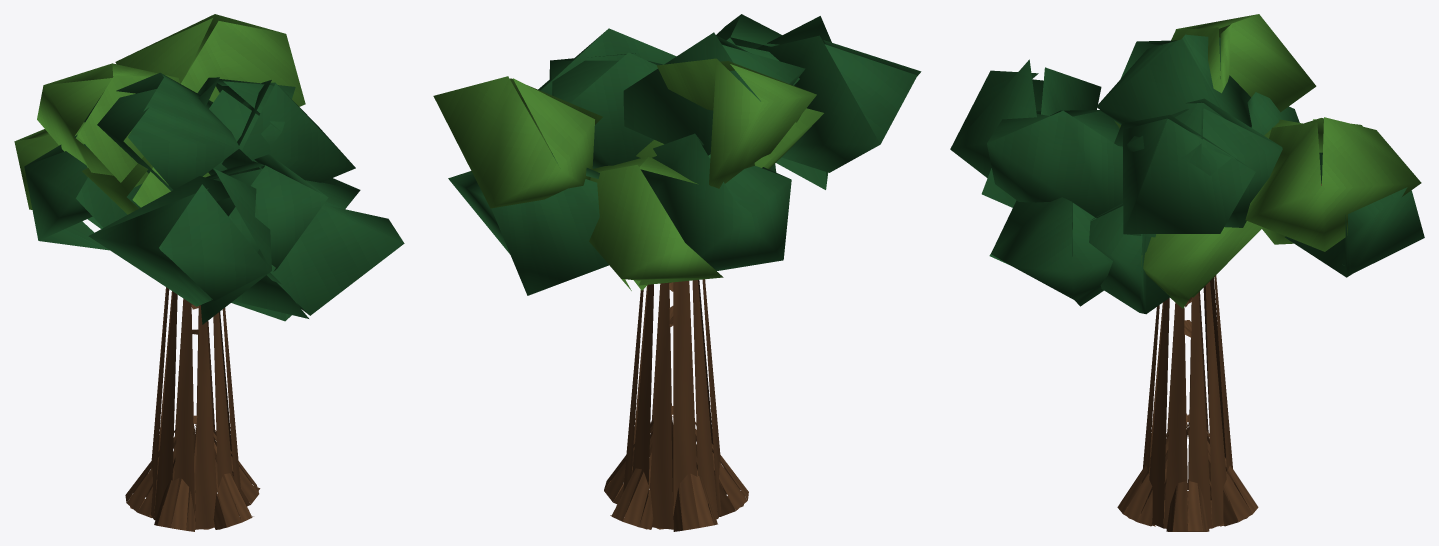
File: jungle-tree.glb
3 views of the same model, side by side, from view 1: azimuth 30°, elevation 25°; view 2: azimuth 150°, elevation 25°; view 3: azimuth 270°, elevation 25° (orthographic). The views are drawn at different scales.
Parts seen in each view (by area): view 1: Surface CanopyGreen, Surface CanopySun, Surface TropicalBark.001; view 2: Surface CanopyGreen, Surface CanopySun, Surface TropicalBark.001; view 3: Surface CanopyGreen, Surface CanopySun, Surface TropicalBark.001.
Part boxes in pixels (bbox=[...]): Surface CanopyGreen: bbox=[24, 72, 404, 324]; Surface CanopySun: bbox=[14, 14, 305, 214]; Surface TropicalBark.001: bbox=[125, 287, 260, 531]; Surface CanopyGreen: bbox=[448, 14, 921, 295]; Surface CanopySun: bbox=[433, 58, 823, 290]; Surface TropicalBark.001: bbox=[604, 279, 748, 531]; Surface CanopyGreen: bbox=[950, 34, 1424, 314]; Surface CanopySun: bbox=[1115, 14, 1421, 308]; Surface TropicalBark.001: bbox=[1117, 183, 1321, 531].
Bounding box in the file's own units: 5.03 × 7.15 × 6.62.
3 materials, 3 textured.
